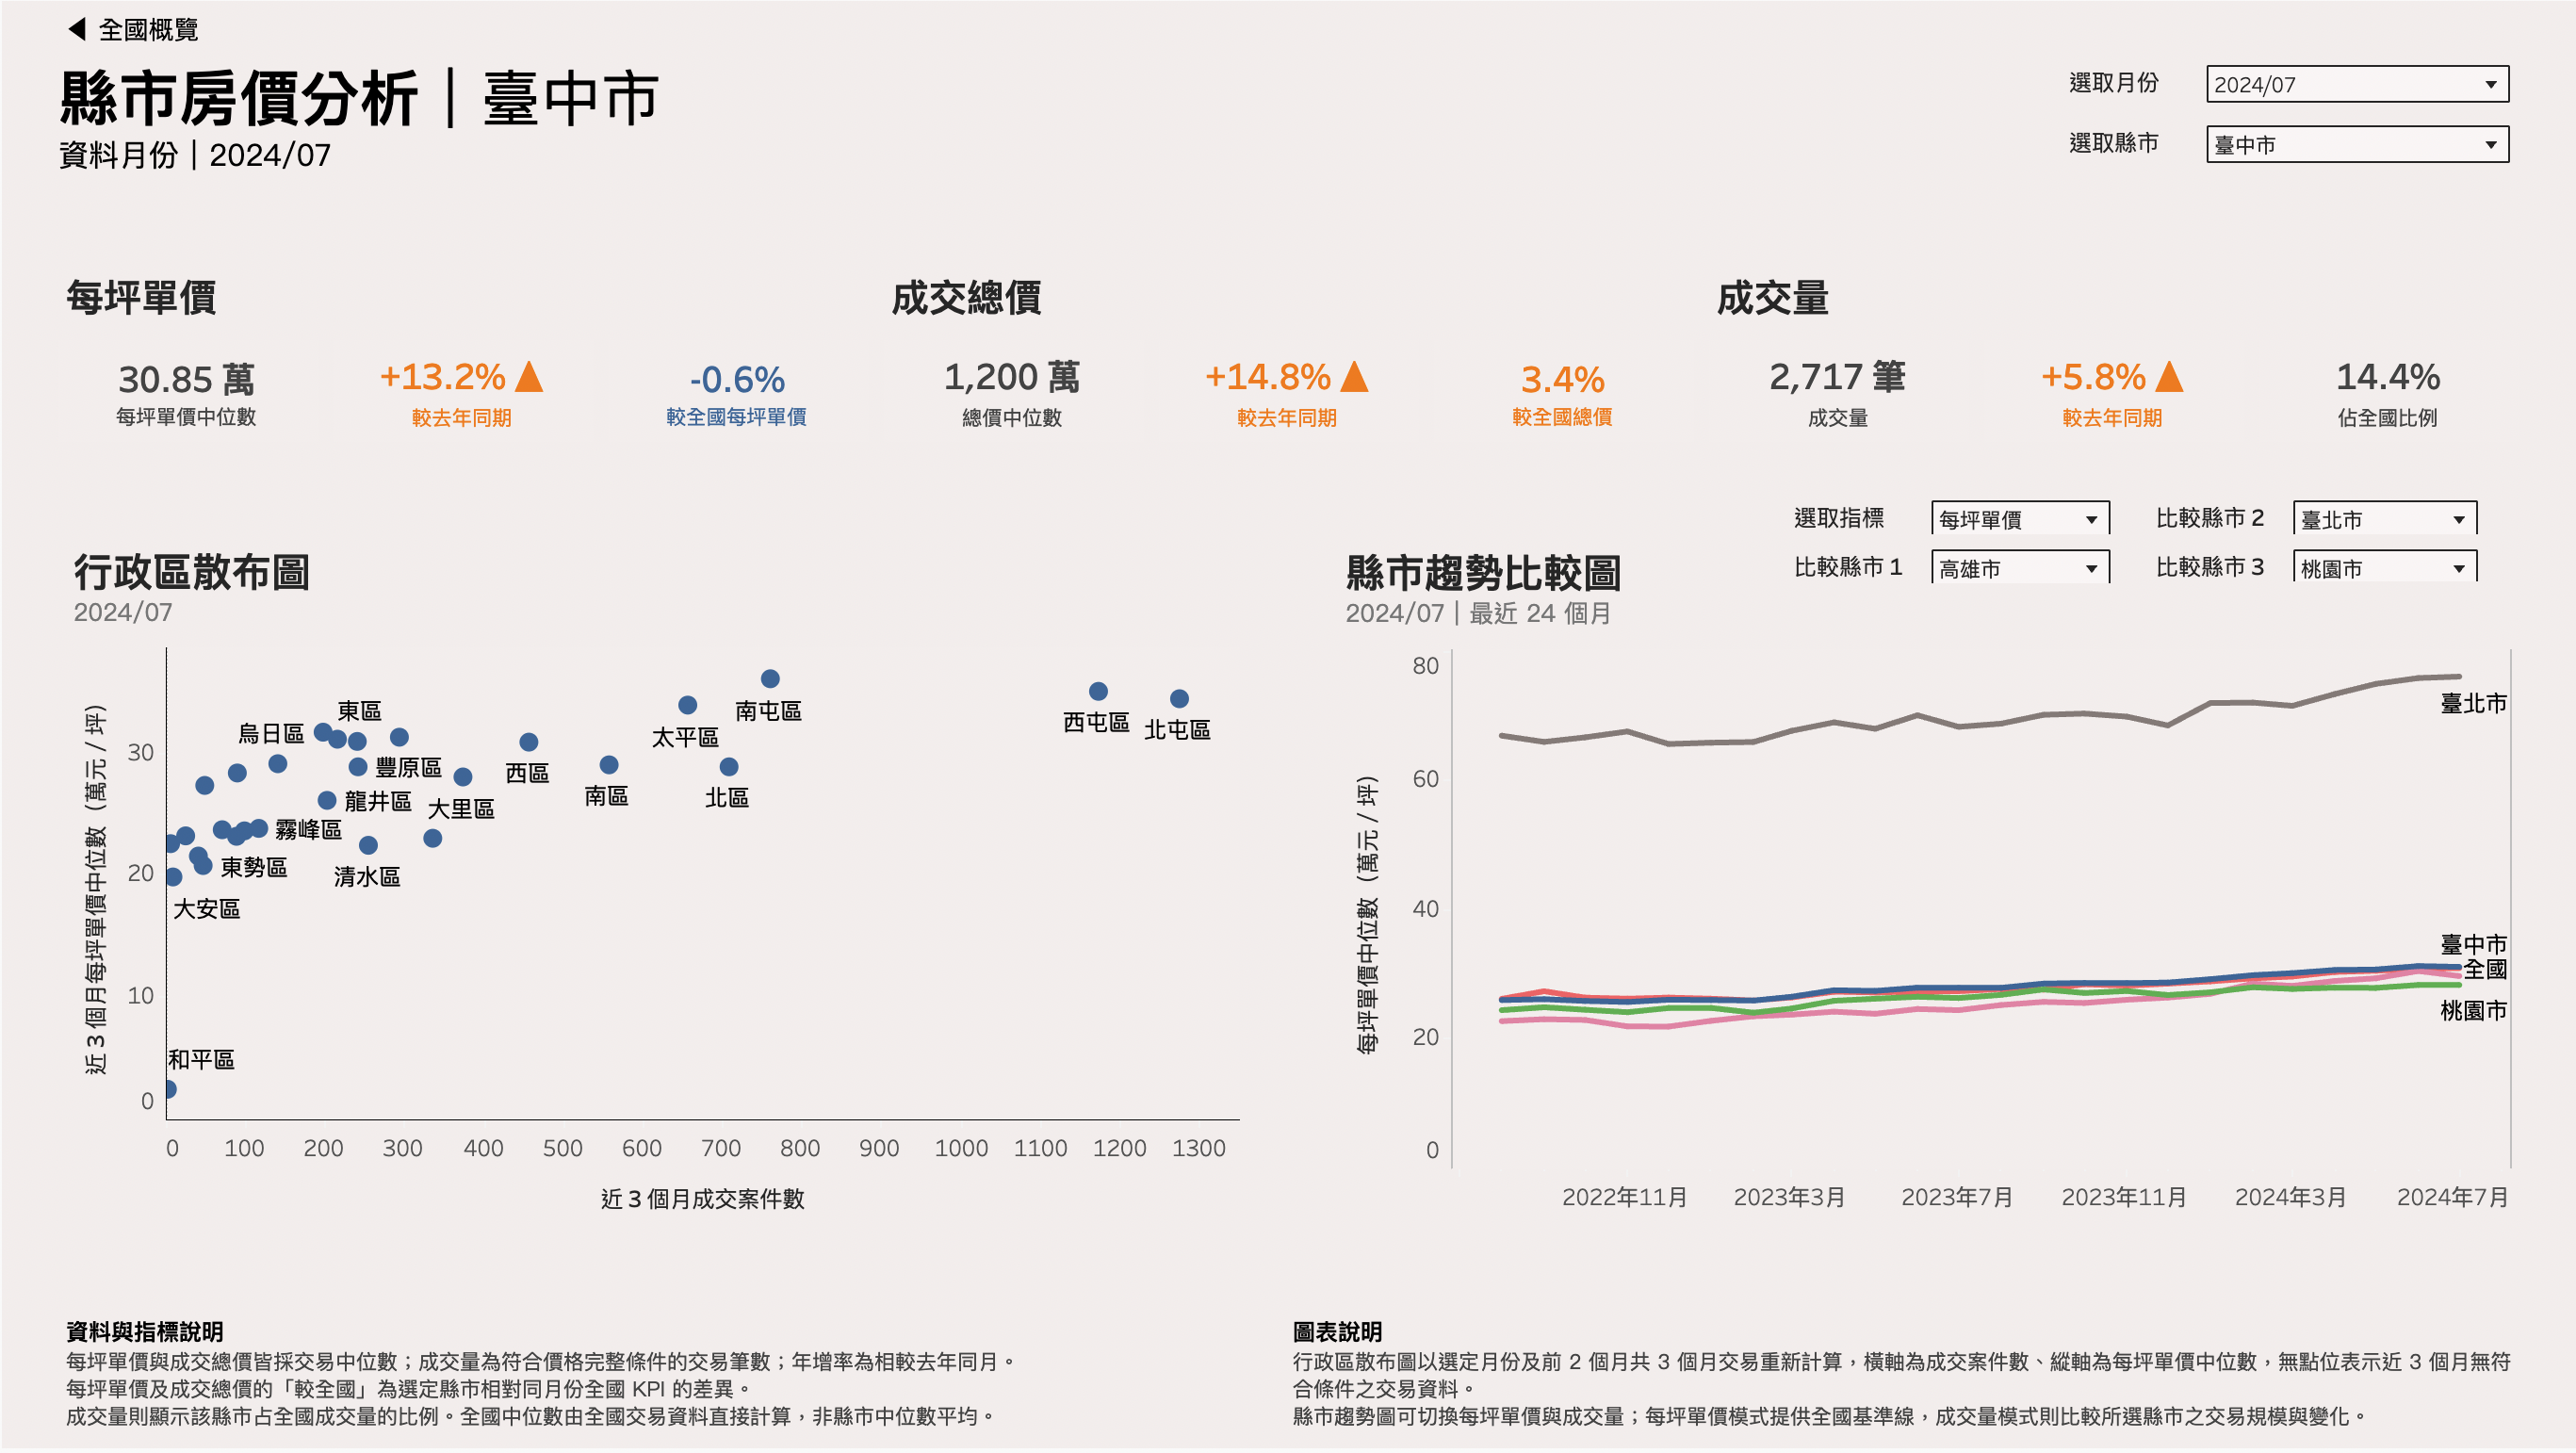

Layout of this report page (visuals, bound fields, positions):
{"tool":"tableau","page":{"name":"縣市房價分析","canvas":[1366,768],"ordinal":1},"visuals":[{"type":"dashboard-object","box":[16,1,106,28]},{"type":"text","box":[8,8,1063.3,107.4]},{"type":"parameter","param":"[Parameters].[參數 0512483433230338]","box":[1093,30,243,32]},{"type":"parameter","param":"[Parameters].[參數 0512483725586452]","box":[1093,62,243,31]},{"type":"worksheet","title":"縣市每坪單價","mark":"Automatic","box":[26,133,146,105]},{"type":"worksheet","title":"縣市每坪單價 年增","mark":"Automatic","box":[172,133,146,105]},{"type":"worksheet","title":"縣市全國每坪單價","mark":"Automatic","box":[318,133,146,105]},{"type":"worksheet","title":"縣市總價","mark":"Automatic","box":[464,133,146,105]},{"type":"worksheet","title":"縣市總價 年增","mark":"Automatic","box":[610,133,146,105]},{"type":"worksheet","title":"縣市全國總價","mark":"Automatic","box":[756,133,146,105]},{"type":"worksheet","title":"縣市交易量","mark":"Automatic","box":[902,133,146,105]},{"type":"worksheet","title":"縣市交易量 年增","mark":"Automatic","box":[1048,133,146,105]},{"type":"worksheet","title":"縣市全國交易量","mark":"Automatic","box":[1194,133,146,105]},{"type":"worksheet","title":"行政區散布圖","mark":"Circle","rows":["median_unit_price_10k_ping (district_rolling_3m)"],"cols":["price_complete_transaction_count (district_rolling_3m)"],"box":[8,256,675,420]},{"type":"worksheet","title":"縣市趨勢比較圖","mark":"Line","rows":["Calculation_0512483941957675","Calculation_0512483942563884"],"cols":["month_start (city_monthly_kpi)"],"box":[683,256,675,420]},{"type":"parameter","param":"[Parameters].[參數 0512483597844485]","box":[947,261,193,26]},{"type":"parameter","param":"[Parameters].[比較縣市 1 （複製）_0512483940163623]","box":[1139,261,196,26]},{"type":"parameter","param":"[Parameters].[參數 0512483939905574]","box":[947,287,193,26]},{"type":"parameter","param":"[Parameters].[比較縣市 2 （複製）_0512483940208680]","box":[1139,287,196,25]},{"type":"text","box":[34,697,651,63]},{"type":"text","box":[685,697,650,63]}]}

Visuals, with their boxes in screenshot pixels (x1, y1, x2, y2), scaled from the page's 1366x768 canvas onto the 2576x1453 screenshot:
dashboard-object: (30, 2, 230, 55)
text: (15, 15, 2020, 219)
parameter: (2062, 57, 2519, 117)
parameter: (2062, 117, 2519, 176)
"縣市每坪單價" worksheet: (49, 252, 324, 450)
"縣市每坪單價 年增" worksheet: (324, 252, 599, 450)
"縣市全國每坪單價" worksheet: (599, 252, 875, 450)
"縣市總價" worksheet: (875, 252, 1150, 450)
"縣市總價 年增" worksheet: (1150, 252, 1426, 450)
"縣市全國總價" worksheet: (1426, 252, 1701, 450)
"縣市交易量" worksheet: (1701, 252, 1977, 450)
"縣市交易量 年增" worksheet: (1977, 252, 2252, 450)
"縣市全國交易量" worksheet: (2252, 252, 2527, 450)
"行政區散布圖" worksheet (Circle marks): (15, 484, 1288, 1279)
"縣市趨勢比較圖" worksheet (Line marks): (1288, 484, 2561, 1279)
parameter: (1785, 494, 2150, 543)
parameter: (2148, 494, 2518, 543)
parameter: (1785, 543, 2150, 592)
parameter: (2148, 543, 2518, 590)
text: (64, 1318, 1292, 1438)
text: (1292, 1318, 2518, 1438)
